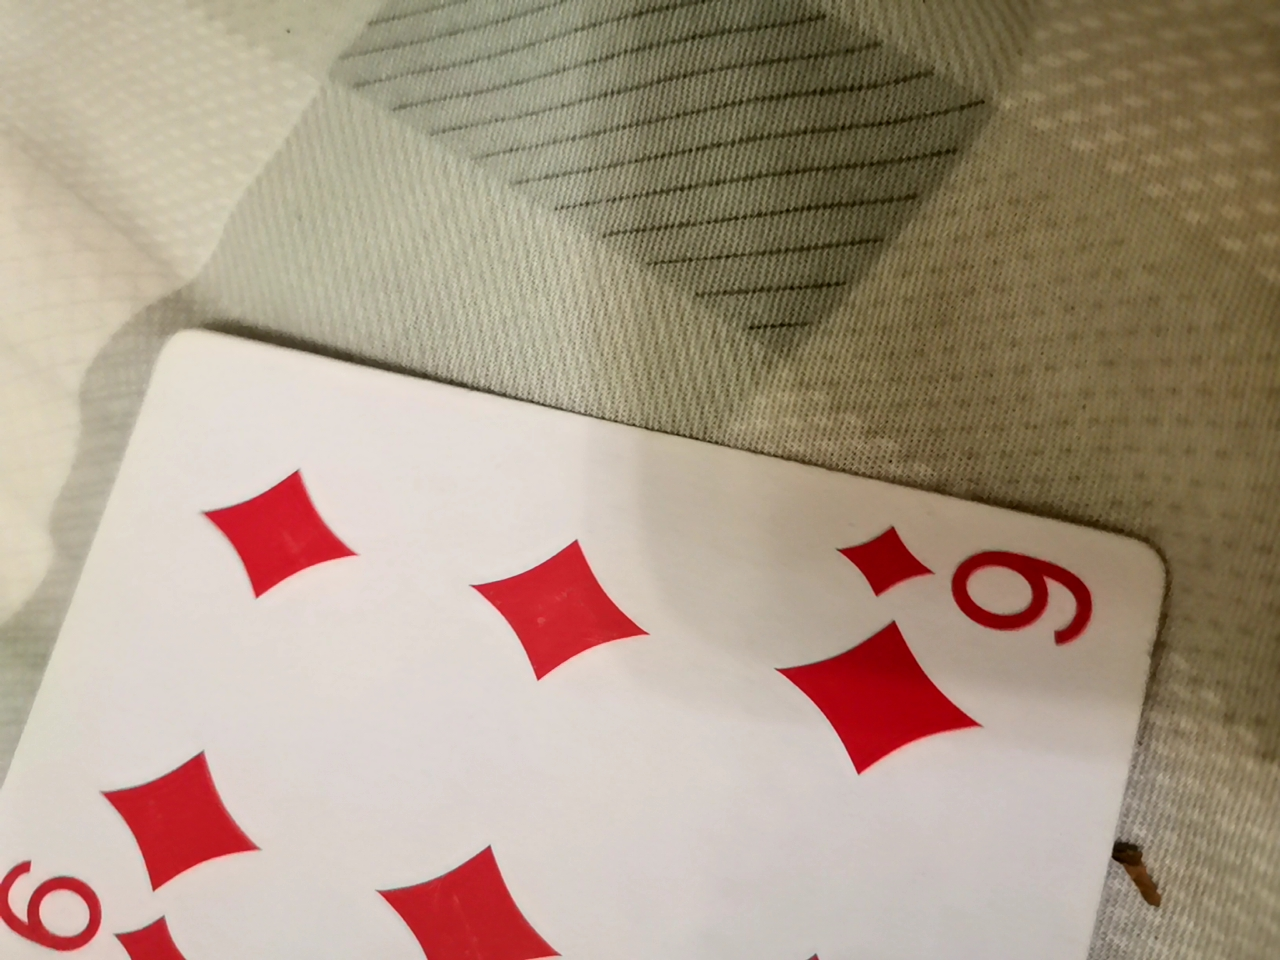fk 6: (0, 287, 1151, 952)
